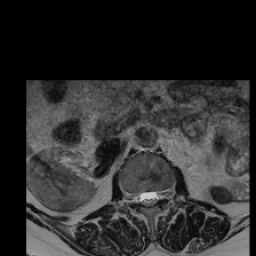CCS_normal: (145, 183, 152, 211)
LFS_normal: (159, 183, 166, 203)
LLS_normal: (152, 183, 159, 209)
RFS_normal: (130, 186, 138, 210)
RLS_normal: (138, 185, 145, 210)
